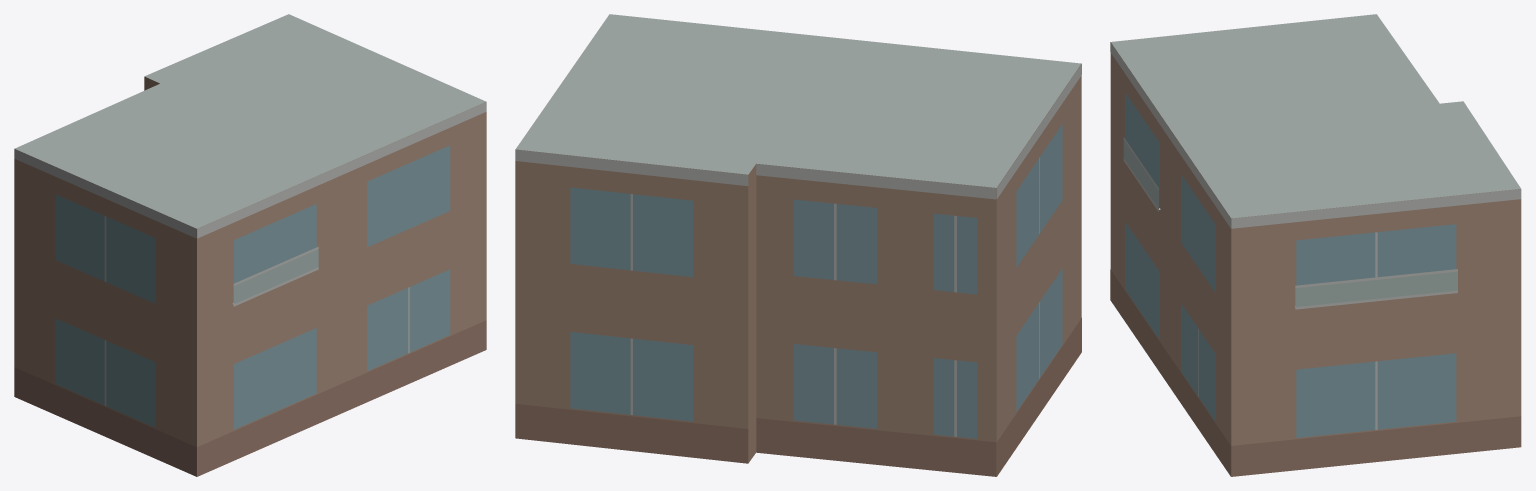
File: survey-upis-32572307.glb
3 views of the same model, side by side, from view 1: azimuth 30°, elevation 25°; view 2: azimuth 150°, elevation 25°; view 3: azimuth 270°, elevation 25° (orthographic). The views are drawn at different scales.
Visible parts, largest first — view 1: survey-upis-32572307.tmp; view 2: survey-upis-32572307.tmp; view 3: survey-upis-32572307.tmp.
Boxes of the visible parts, <box> form: survey-upis-32572307.tmp: <box>14,14,486,476</box>; survey-upis-32572307.tmp: <box>515,14,1081,476</box>; survey-upis-32572307.tmp: <box>1110,14,1521,476</box>.
Bounding box in the file's own units: 10.36 × 6.1 × 8.8.
